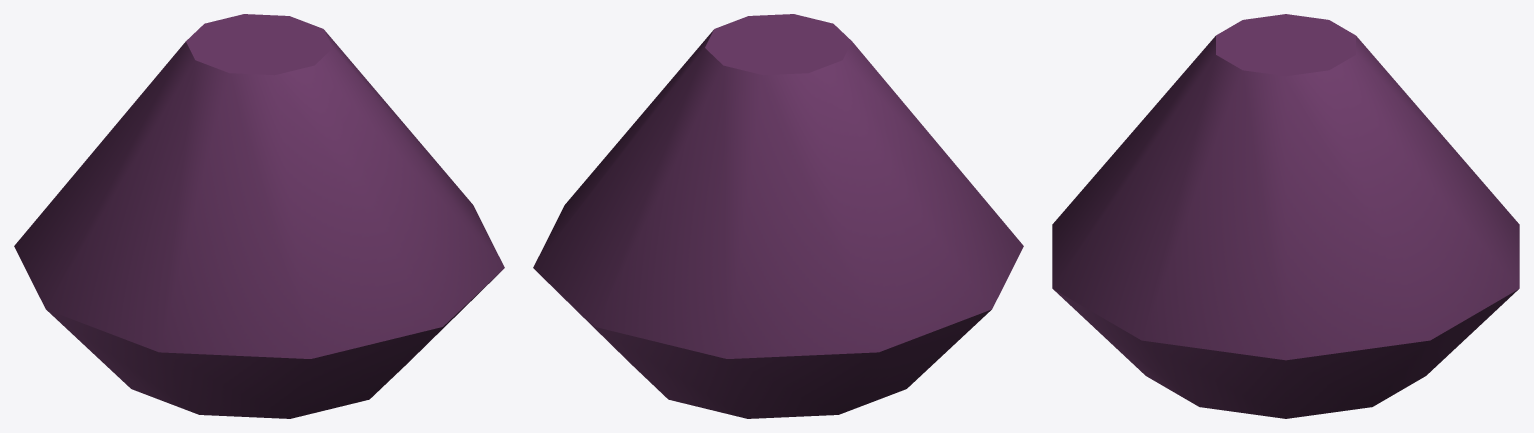
File: jellynut.glb
3 renders of one model, left to right at view 1: azimuth 30°, elevation 25°; view 2: azimuth 150°, elevation 25°; view 3: azimuth 270°, elevation 25°, orthographic.
Visible parts, largest first — view 1: jellynut; view 2: jellynut; view 3: jellynut.
Boxes of the visible parts, left/top/right/bottom form: jellynut: left=14, top=14, right=504, bottom=418; jellynut: left=533, top=14, right=1023, bottom=418; jellynut: left=1052, top=14, right=1519, bottom=418.
Bounding box in the file's own units: 0.18 × 0.126 × 0.1712.
